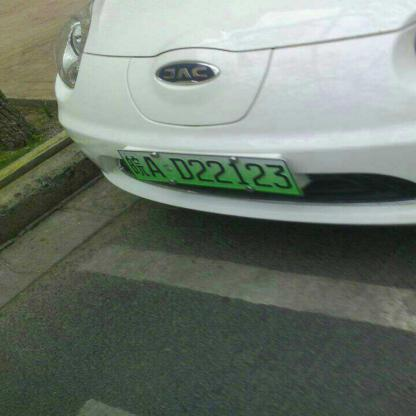lp: (116, 151, 302, 195)
